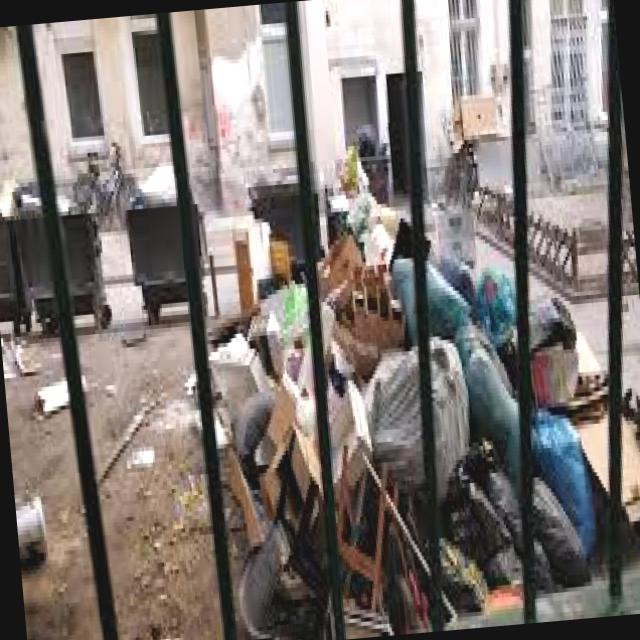garbage: (167, 135, 640, 640)
